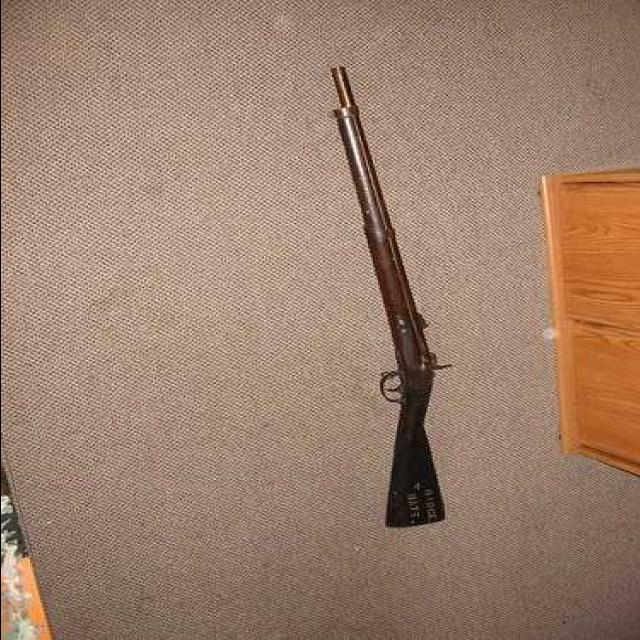heavyweapon: (273, 37, 466, 555)
